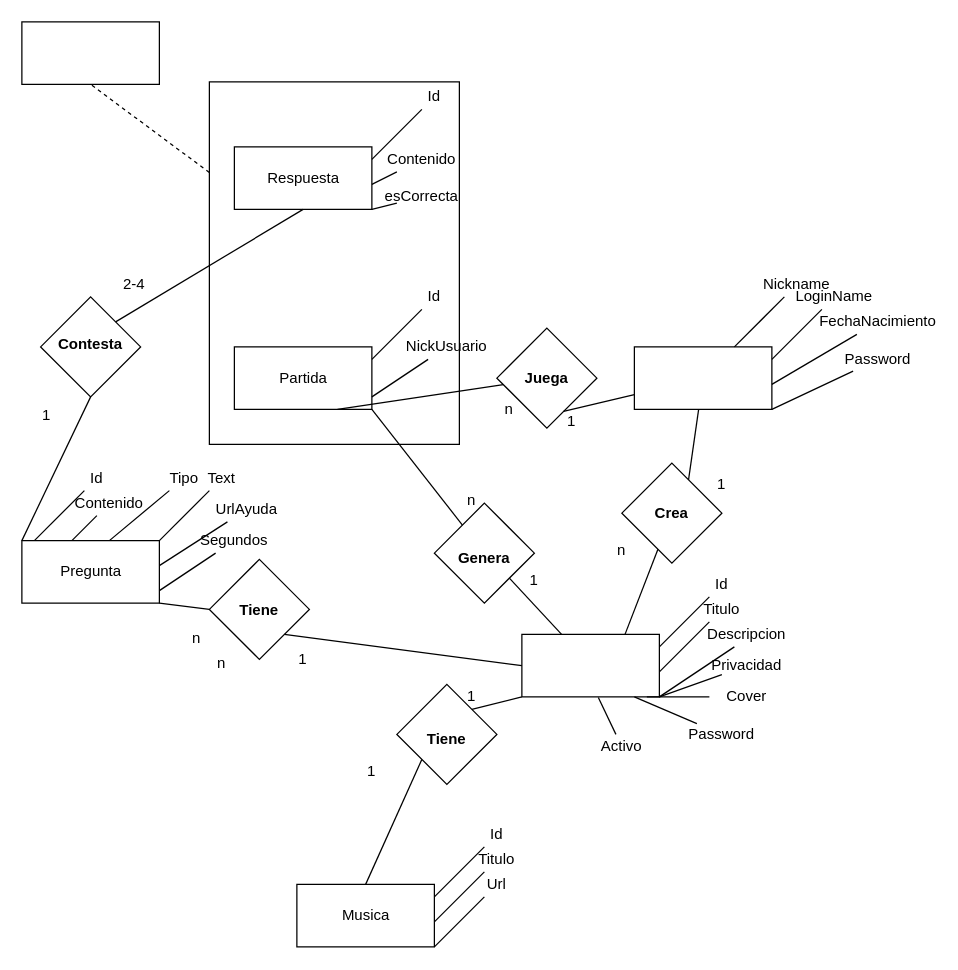
Some shapes in this 958 by 970 pixel diagram are drawn without their labels. Each missing label, with the centre of its shape:
"Juego" belongs at point 590,665.
"Respondio" belongs at point 90,52.
"Usuario" belongs at point 702,377.
